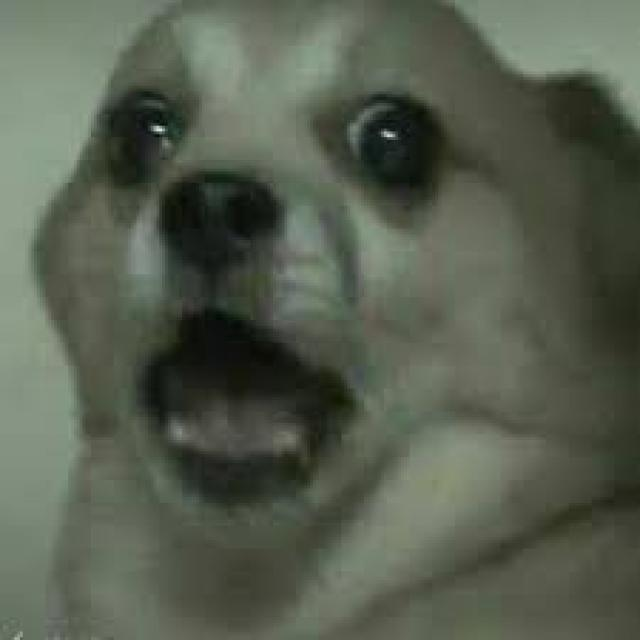dog: (16, 2, 618, 592)
